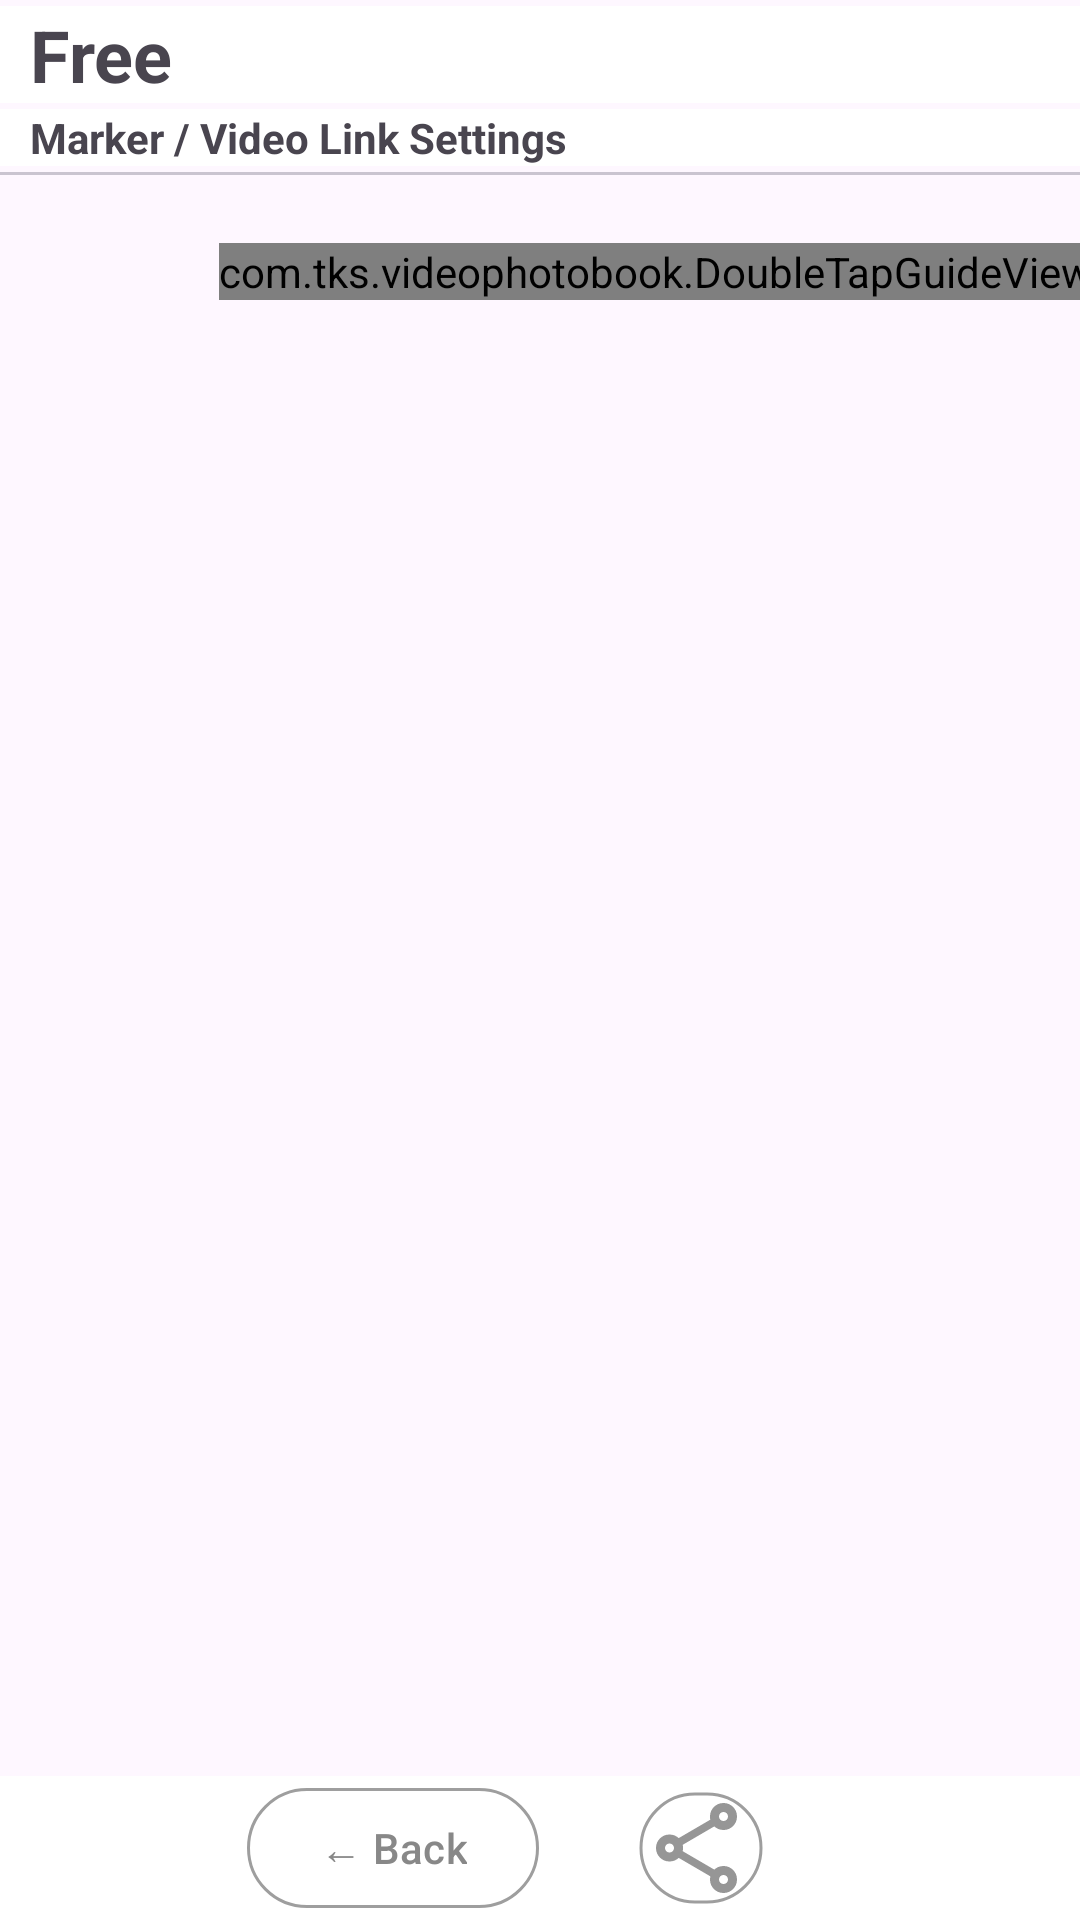

Icons on this 1080px×1920px Android screen, each with its box as Rect(x1, y1, x2, y2):
Share: Rect(639, 1792, 763, 1904)
